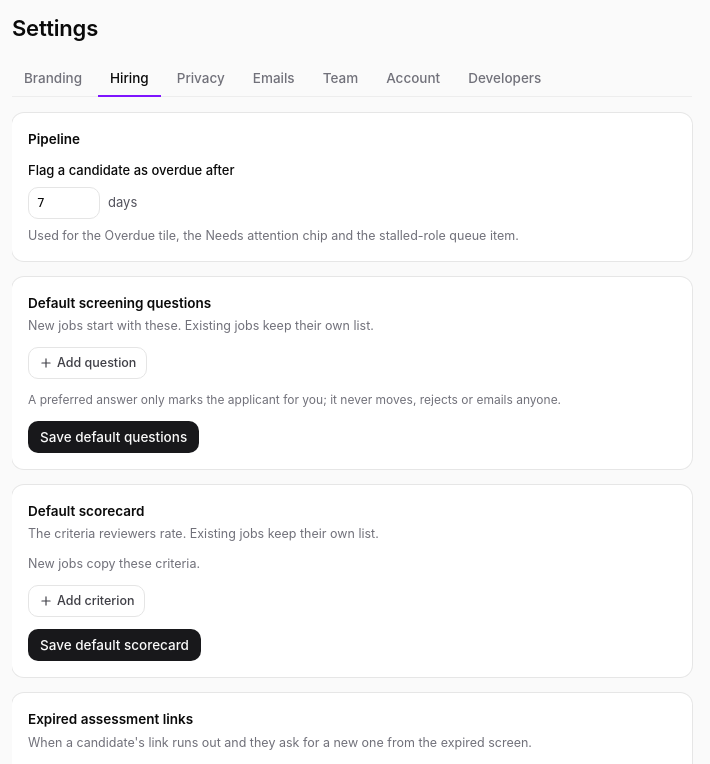
Test: HiringSettingsPage pipeline › keeps the typed value and shows the error when the save fails
Replace the text in the number field labelled "Flag a candidate as overdue after" with "20": (64, 203) [28,187,100,219]
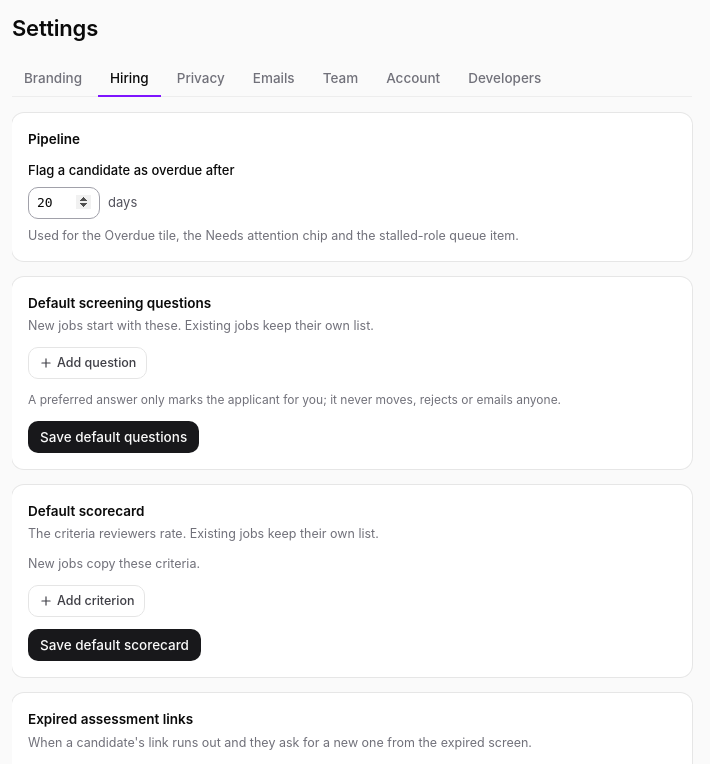
Press Tab
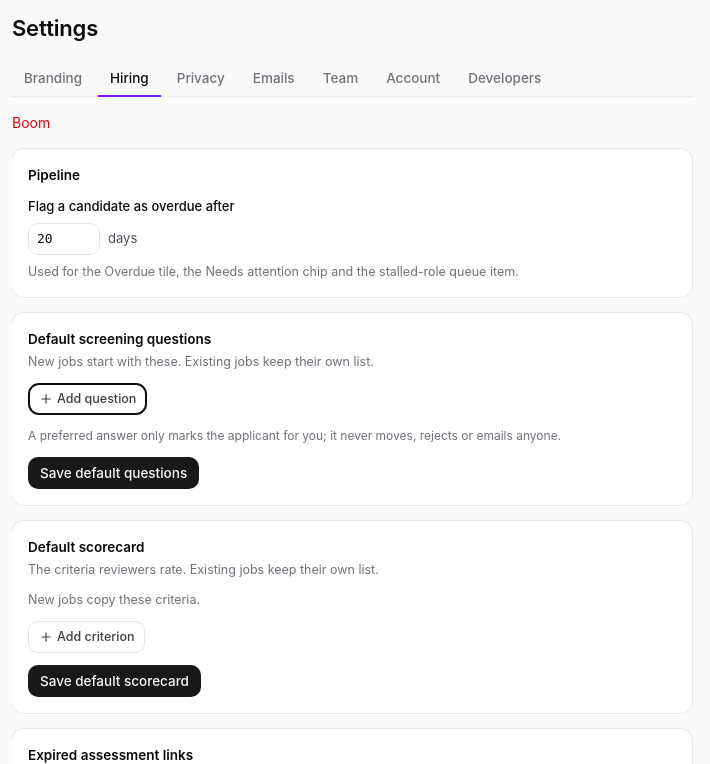
Check: the message reads "Boom", box [12,114,50,131]
